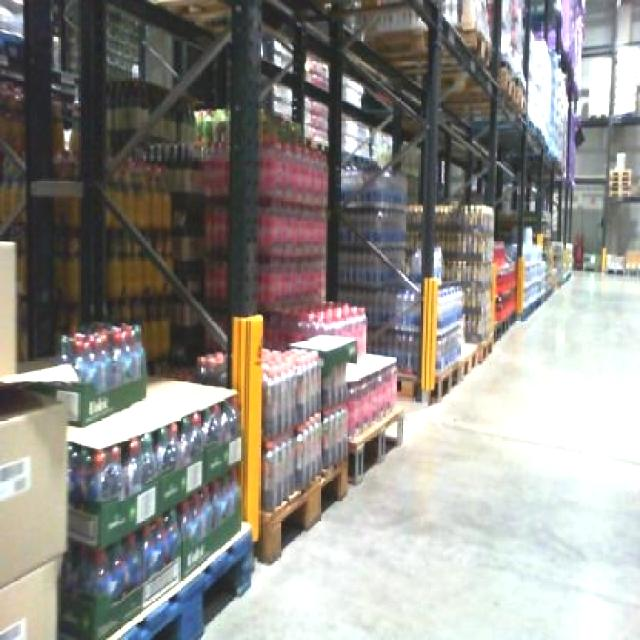pallets: (57, 378, 238, 637), (0, 385, 63, 637), (128, 537, 249, 637)
